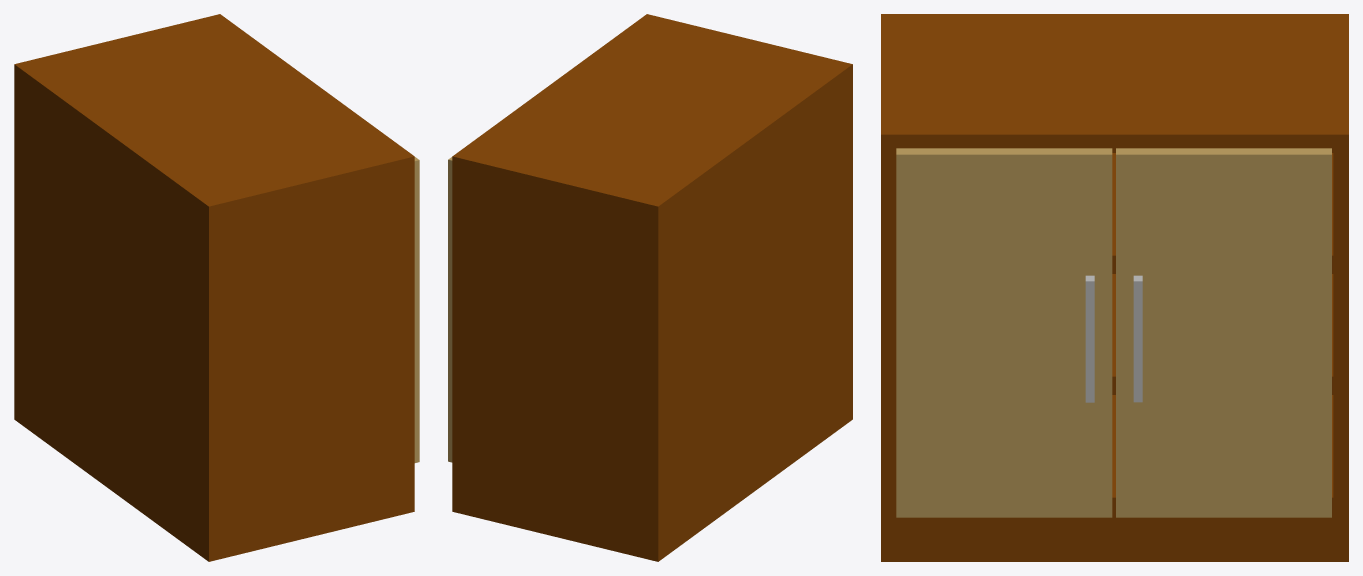
Rendered from Skab_2.fbx.
The picture shows the model from 3 angles, left to right: view 1: azimuth 30°, elevation 25°; view 2: azimuth 150°, elevation 25°; view 3: azimuth 270°, elevation 25°; orthographic projection. The views are drawn at different scales.
Parts seen in each view (by area): view 1: Skab_2, SkabslågeV_2; view 2: Skab_2, SkablågeH_2; view 3: Skab_2, SkabslågeV_2, SkablågeH_2.
Boxes of the visible parts, x1=… form: Skab_2: x1=14, y1=14, x2=414, y2=561; SkabslågeV_2: x1=414, y1=157, x2=419, y2=462; Skab_2: x1=452, y1=14, x2=852, y2=561; SkablågeH_2: x1=448, y1=157, x2=452, y2=462; Skab_2: x1=881, y1=14, x2=1348, y2=561; SkabslågeV_2: x1=896, y1=148, x2=1112, y2=517; SkablågeH_2: x1=1116, y1=148, x2=1331, y2=517.
Size of the model in its own units: 135 by 202 by 200.
